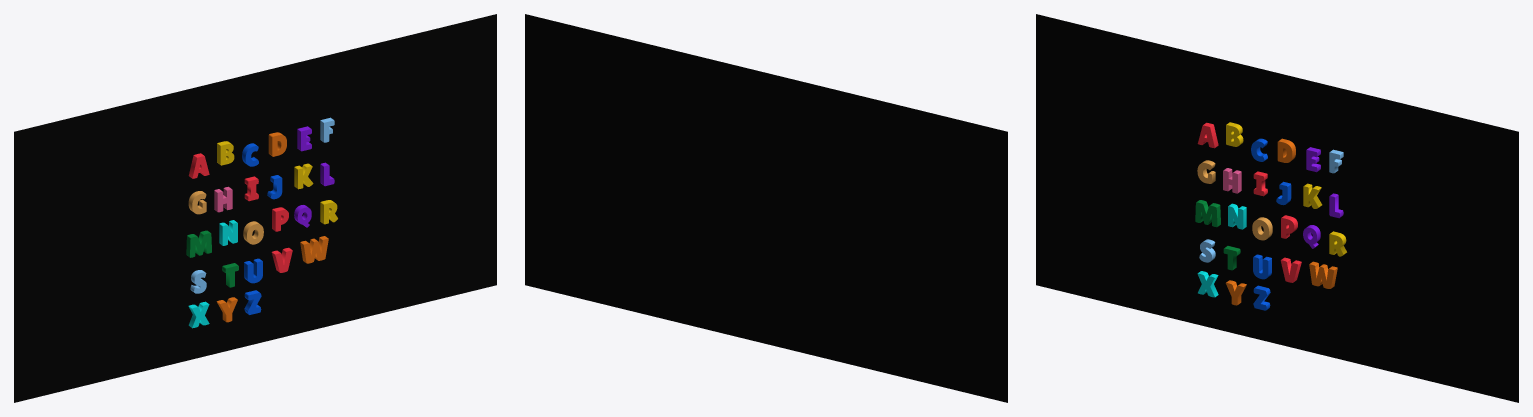
Rendered from alphabet_asset.glb.
3 renders of one model, left to right at view 1: azimuth 30°, elevation 25°; view 2: azimuth 150°, elevation 25°; view 3: azimuth 330°, elevation 25°, orthographic.
Parts seen in each view (by area): view 1: Plane.002_30, w_3, m_13; view 2: Plane.002_30; view 3: Plane.002_30, w_3, m_13, h_18.
Part boxes in pixels (bbox=[...]): Plane.002_30: bbox=[14, 14, 496, 402]; w_3: bbox=[300, 236, 328, 263]; m_13: bbox=[186, 230, 211, 257]; Plane.002_30: bbox=[525, 14, 1007, 402]; Plane.002_30: bbox=[1036, 14, 1518, 402]; w_3: bbox=[1309, 261, 1337, 288]; m_13: bbox=[1195, 200, 1220, 227]; h_18: bbox=[1223, 168, 1241, 193].
Size of the model in its own units: 73.71 by 39.57 by 3.19.
